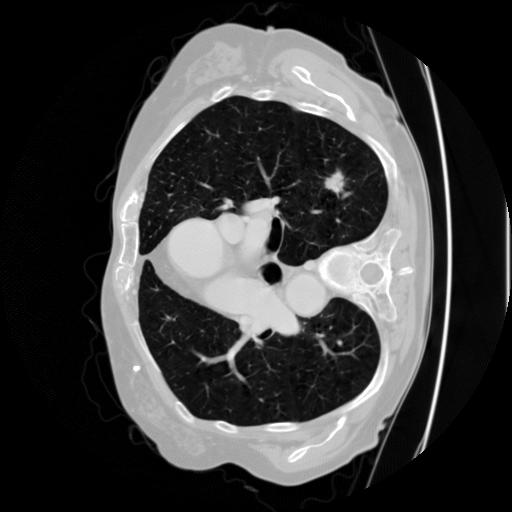nodule: (323, 169, 347, 193)
